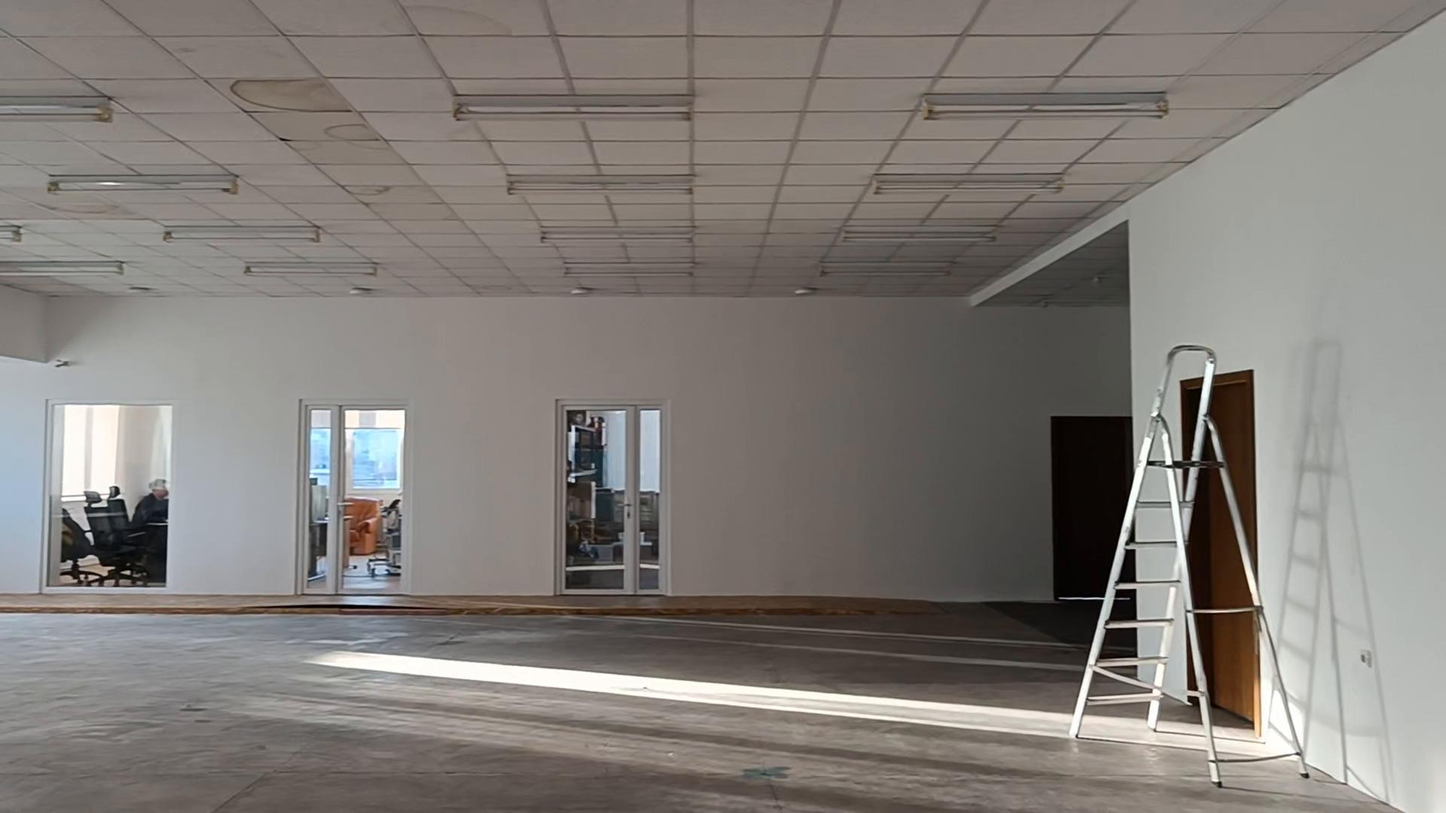ceiling: (0, 0, 1445, 295)
floor: (0, 604, 1394, 812)
wall: (4, 25, 1445, 810)
